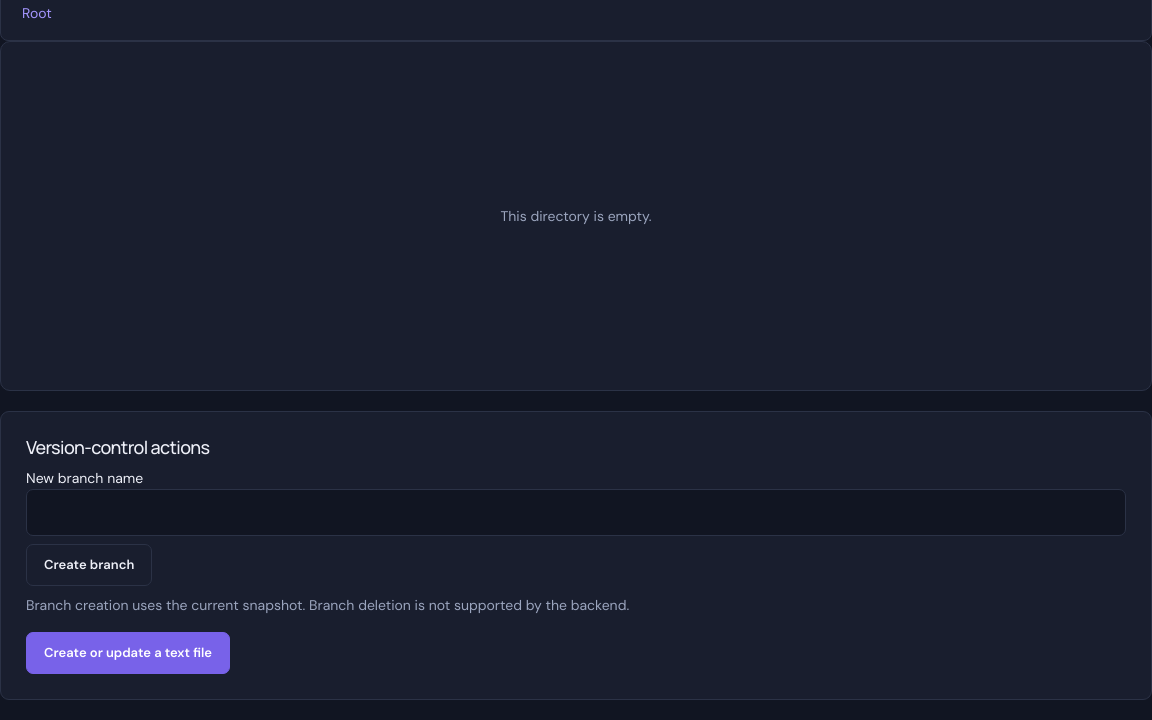
Test: creates a branch from the current commit
(page scrolled)
Type "feature/new" into the field labelled "New branch name" at (576, 513), box [26, 489, 1126, 536]
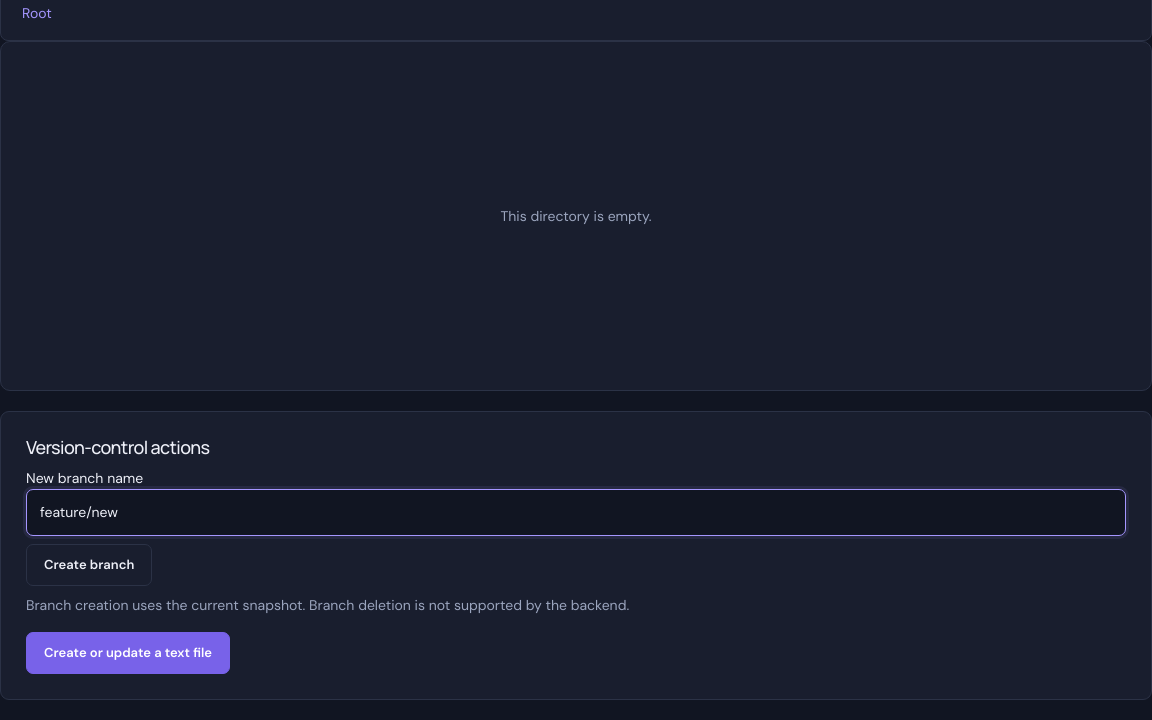
Click the button "Create branch" at (89, 565), box [26, 544, 152, 586]
(page scrolled)
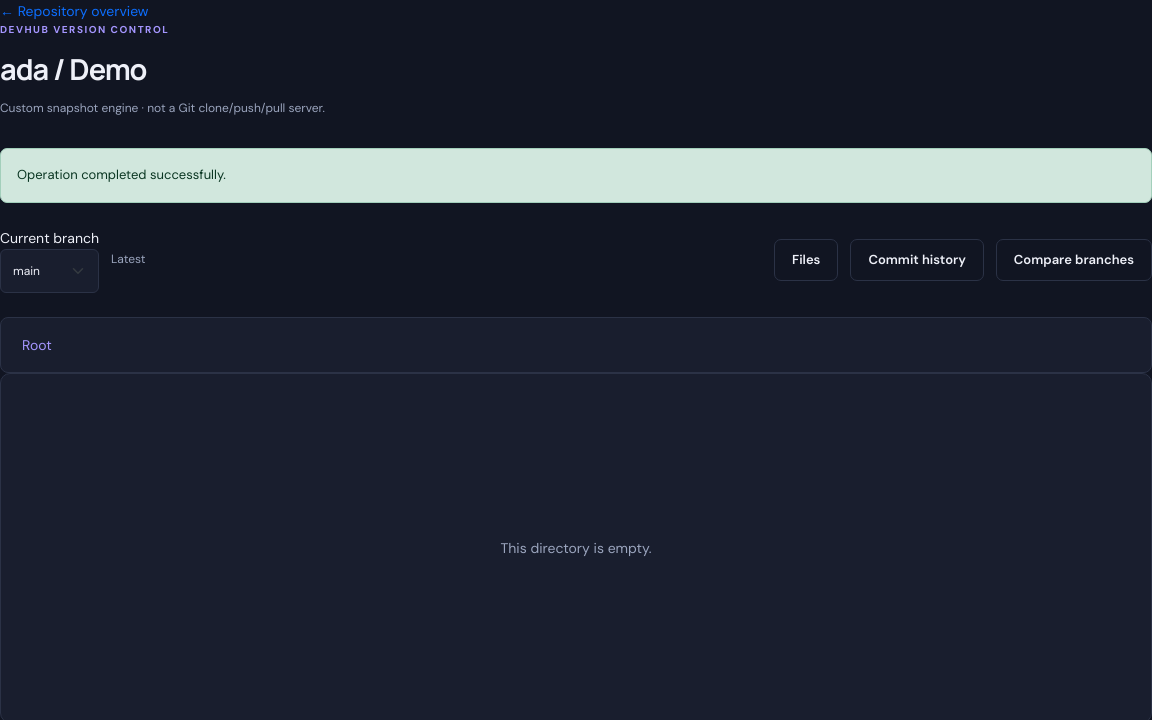
Expected: the text "Operation completed successfully." is shown, [0, 148, 1151, 203]
